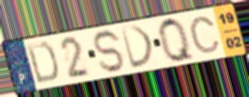2: (59, 35, 92, 80)
C: (188, 15, 222, 55)
D: (118, 24, 156, 71), (24, 41, 60, 86)
Q: (156, 16, 198, 65)
S: (93, 28, 127, 75)
